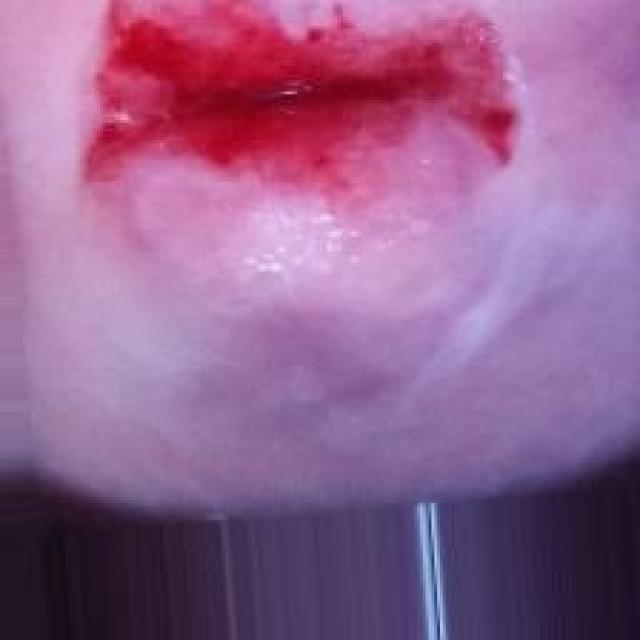type-1: (12, 0, 625, 464)
